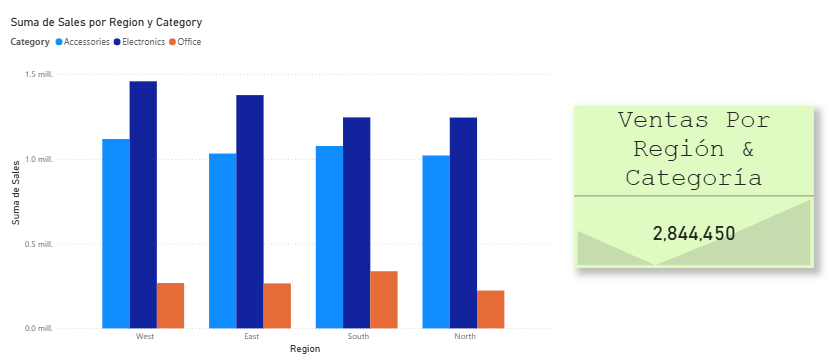

This screenshot's page, from the dashboard's own definition file:
{"tool":"powerbi","page":{"name":"Categoría_Productos","canvas":[1280,720],"ordinal":1},"visuals":[{"type":"clusteredColumnChart","fields":{"Category":["ecommerce_sales_data.Region"],"Y":["Sum(ecommerce_sales_data.Sales)"],"Series":["ecommerce_sales_data.Category"]},"box":[60,108.3,800.5,502],"z":0},{"type":"kpi","title":"Ventas Por Región & Categoría","fields":{"Indicator":["Sum(ecommerce_sales_data.Sales)"],"TrendLine":["ecommerce_sales_data.Region"]},"box":[889.8,241.5,351.2,237.1],"z":1}]}

Visuals, with their boxes on the page's 1280x720 design canvas (x1, y1, x2, y2). These are canvas units, not pixel positions in the 831x361 screenshot, which may show the page scaled, cropped or inside an application window:
clusteredColumnChart - ecommerce_sales_data.Region x Sum(ecommerce_sales_data.Sales): 60,108,860,610
"Ventas Por Región & Categoría" kpi: 890,242,1241,479
